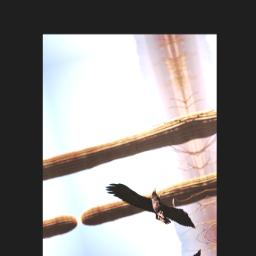Crow: (103, 164, 198, 250)
